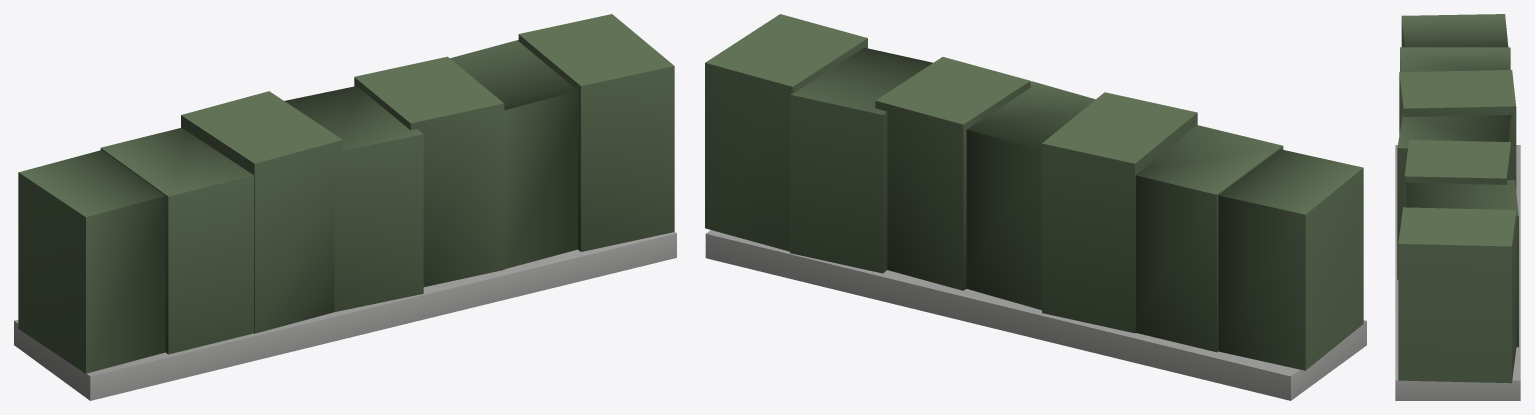
The model's file is hedge_run.lod1.glb.
The picture shows the model from 3 angles, left to right: view 1: azimuth 30°, elevation 25°; view 2: azimuth 150°, elevation 25°; view 3: azimuth 270°, elevation 25°; orthographic projection. The views are drawn at different scales.
Visible parts, largest first — view 1: props_hedge_run.lod1; view 2: props_hedge_run.lod1; view 3: props_hedge_run.lod1.
Part boxes in pixels (x1=…): props_hedge_run.lod1: x1=14, y1=14, x2=676, y2=400; props_hedge_run.lod1: x1=705, y1=14, x2=1366, y2=400; props_hedge_run.lod1: x1=1395, y1=14, x2=1520, y2=400.
Bounding box in the file's own units: 4.08 × 1.27 × 0.9.
